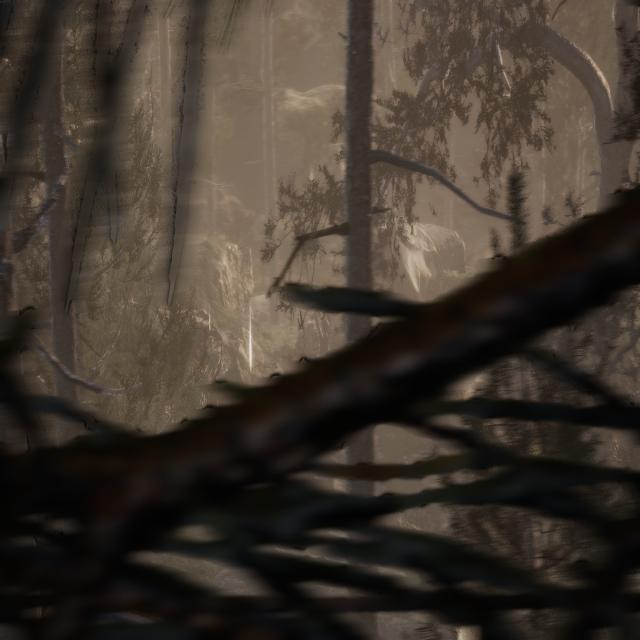Human: (310, 312, 334, 360)
